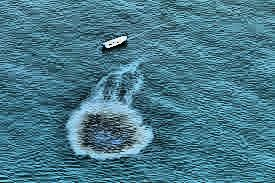sheen: (67, 64, 153, 159)
